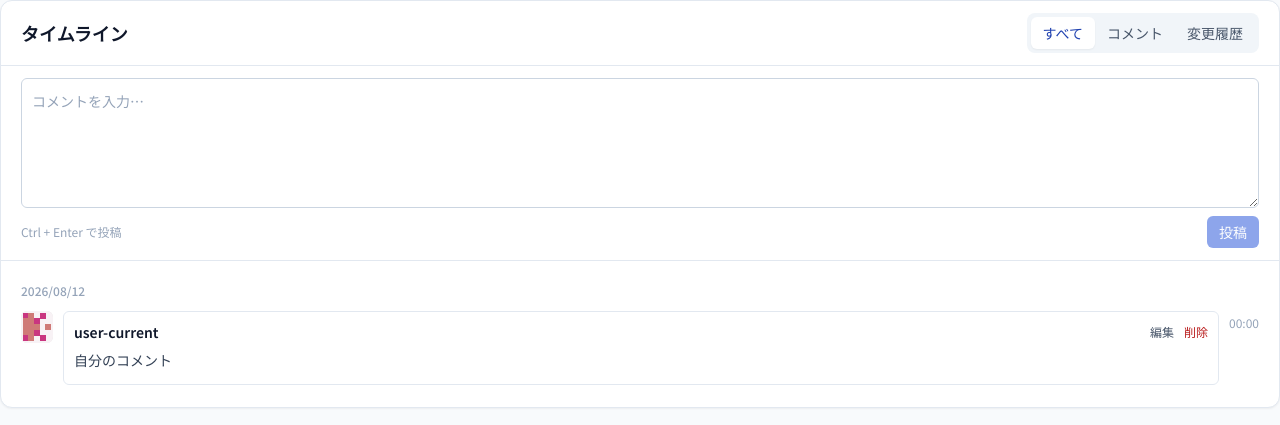
Test case: TaskTimeline › 初期表示とタブ切替ごとにサーバーから該当フィルターを再取得する
Click the tab "コメント": (1135,33) [1095,17,1175,49]
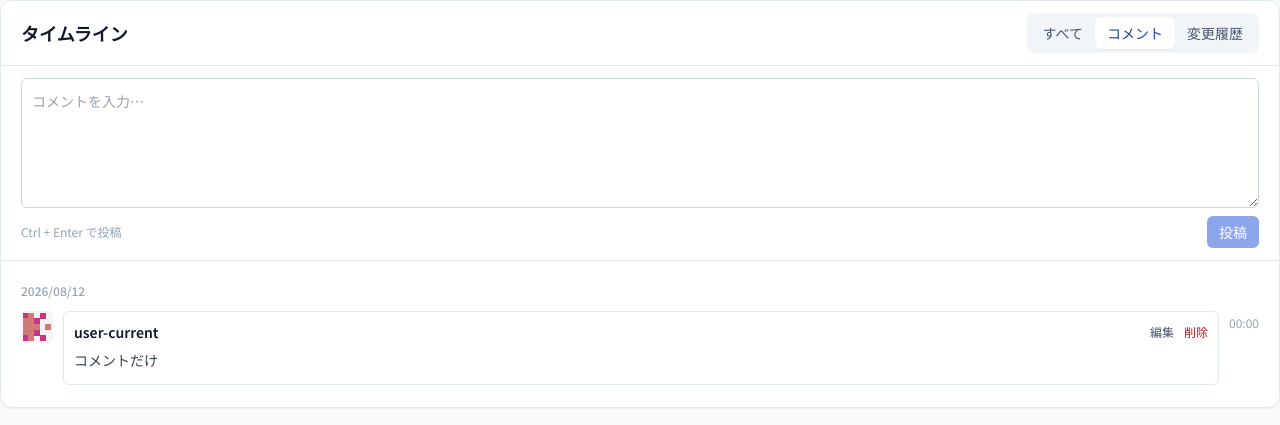
Expected: the text "タイトルを" is not shown
Result: the text "コメントだけ" is shown at [74,350,158,370]
Click the tab "変更履歴": (1215,33) [1175,17,1255,49]
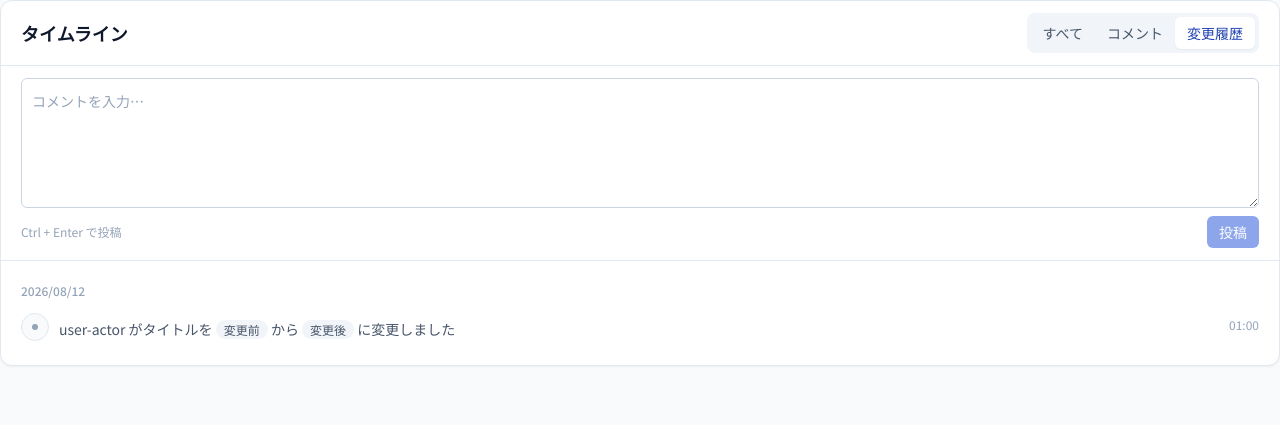
Result: the text "タイトルを 変更前 から 変更後 に変更しました" is shown at [59,319,455,339]
Result: the text "コメントだけ" is gone
